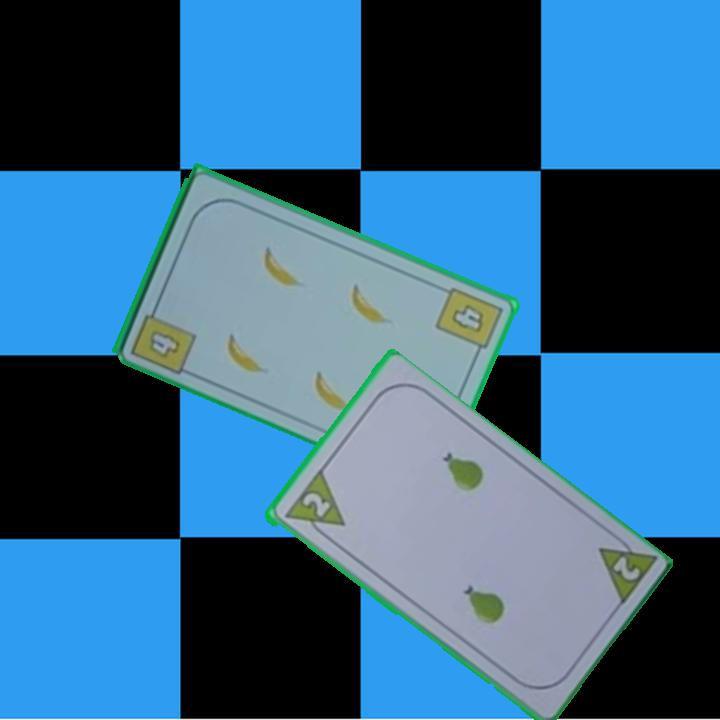2p: (593, 527, 658, 611), (279, 467, 347, 545)
4b: (431, 283, 506, 360), (127, 298, 199, 377)
